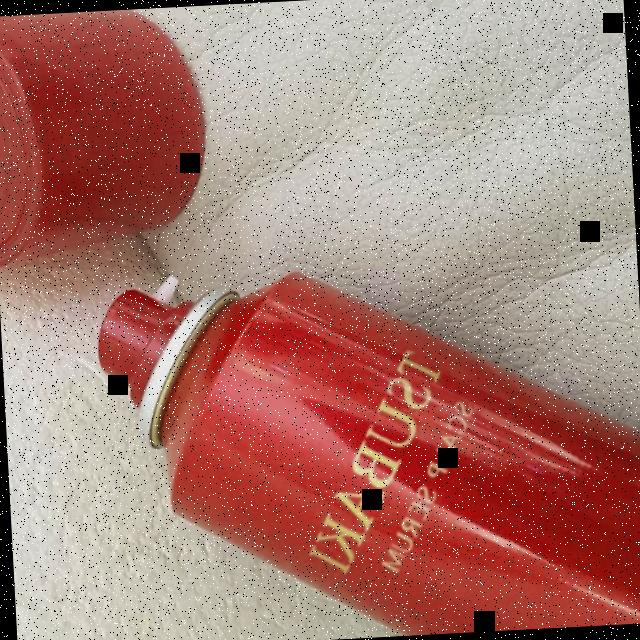chemical_spray_can: (76, 223, 640, 640)
